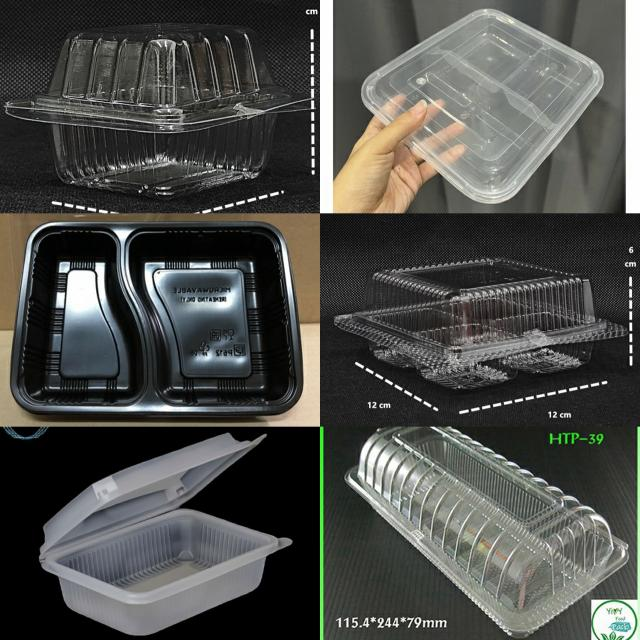Single-Use-Plastic: (345, 428, 628, 637), (11, 222, 303, 414), (5, 24, 309, 198), (40, 434, 290, 635), (362, 9, 603, 204), (335, 259, 627, 388)
